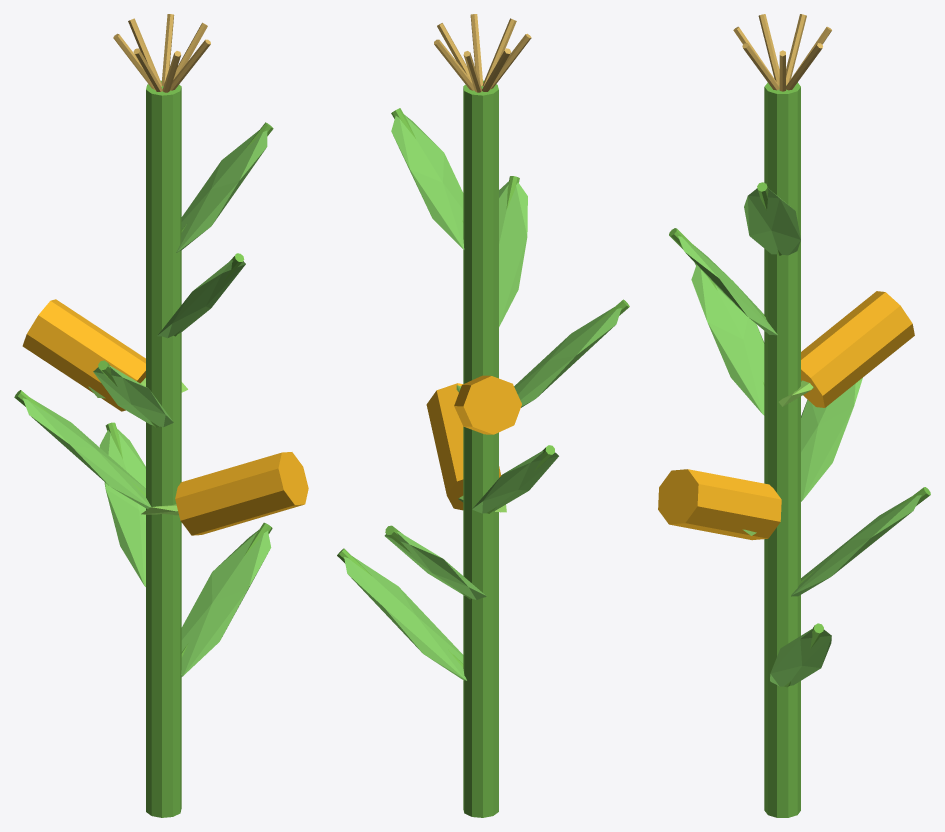
File: Corn.glb
The picture shows the model from 3 angles, left to right: view 1: azimuth 30°, elevation 25°; view 2: azimuth 150°, elevation 25°; view 3: azimuth 270°, elevation 25°; orthographic projection.
Parts seen in each view (by area): view 1: FTF_Plant_Corn_Mesh; view 2: FTF_Plant_Corn_Mesh; view 3: FTF_Plant_Corn_Mesh.
Boxes of the visible parts, x1=… form: FTF_Plant_Corn_Mesh: x1=14, y1=14, x2=308, y2=817; FTF_Plant_Corn_Mesh: x1=337, y1=14, x2=629, y2=817; FTF_Plant_Corn_Mesh: x1=658, y1=14, x2=930, y2=817.
Size of the model in its own units: 0.9738 by 3.06 by 0.9701.
